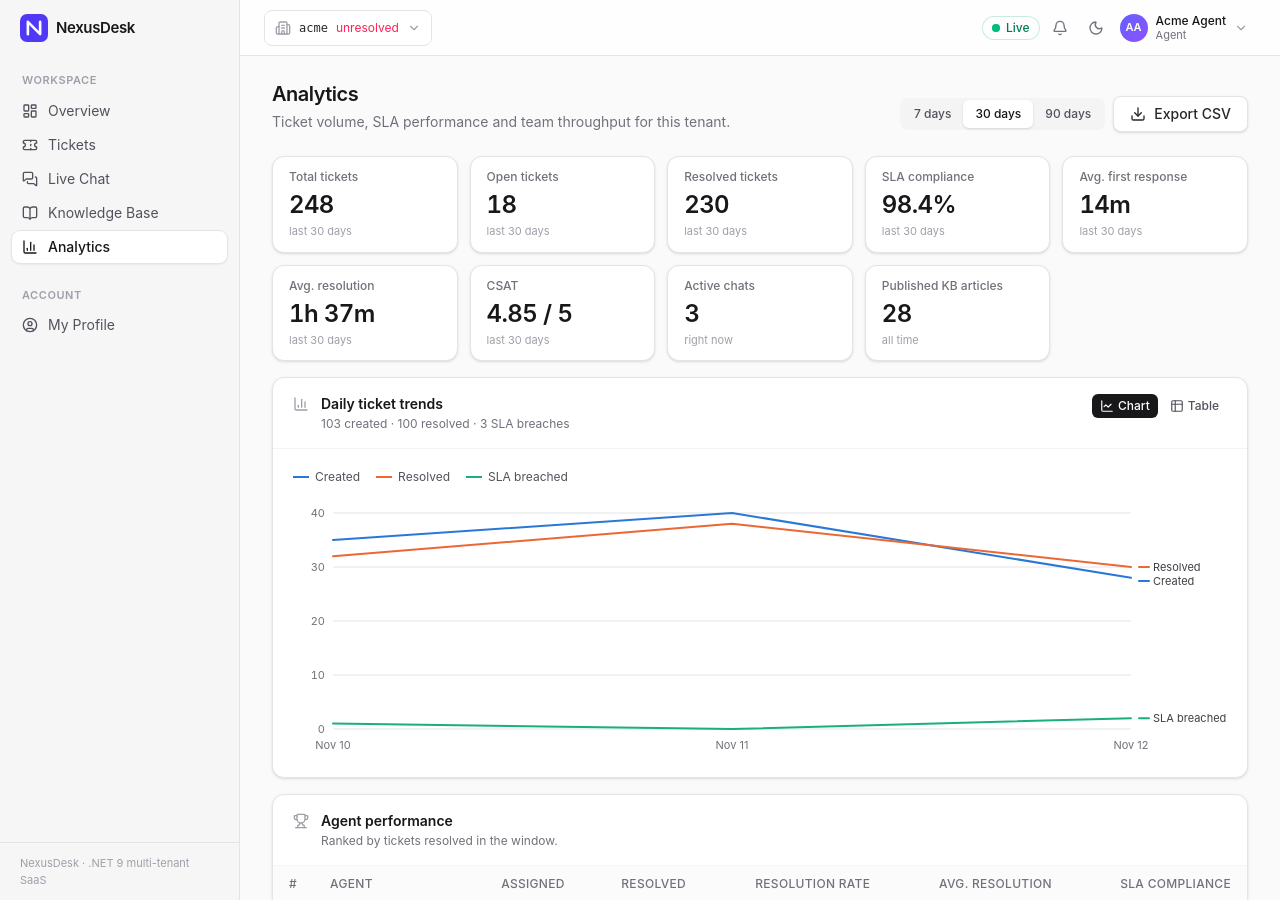
Analytics dashboard › renders KPI cards and refetches every panel when the lookback window changes
Check: the element with test id "kpi-totalTickets" shows "248", box x1=289 y1=190 x2=334 y2=219
Check: the element with test id "kpi-slaComplianceRate" shows "98.4%", box x1=882 y1=190 x2=956 y2=219
Click the radio button labelled "7 days". click: (933, 114)
box: x1=902 y1=100 x2=964 y2=128
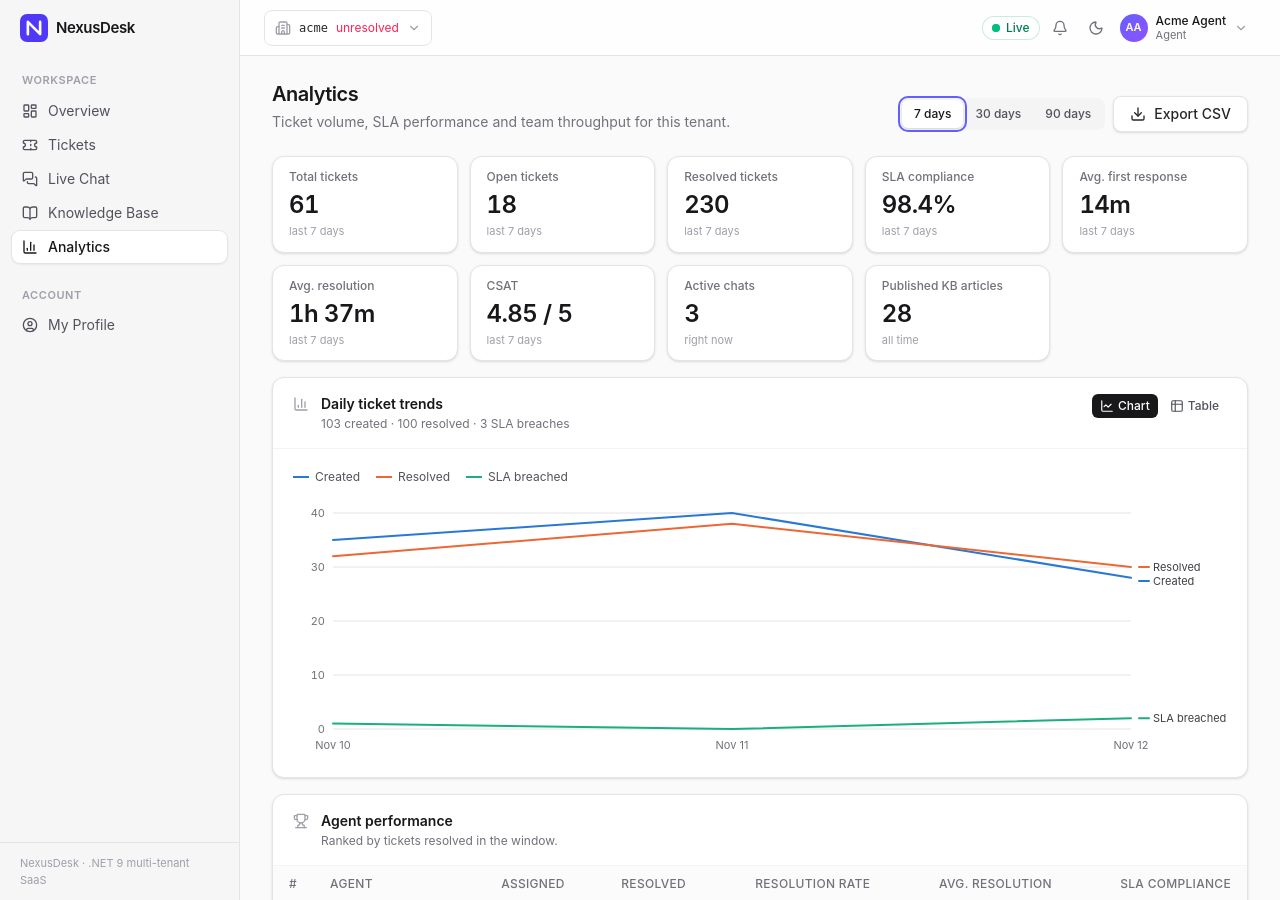
Check: the text "acme" is shown, box x1=299 y1=20 x2=328 y2=36
Check: the element with test id "kpi-totalTickets" shows "61", box x1=289 y1=190 x2=319 y2=219
